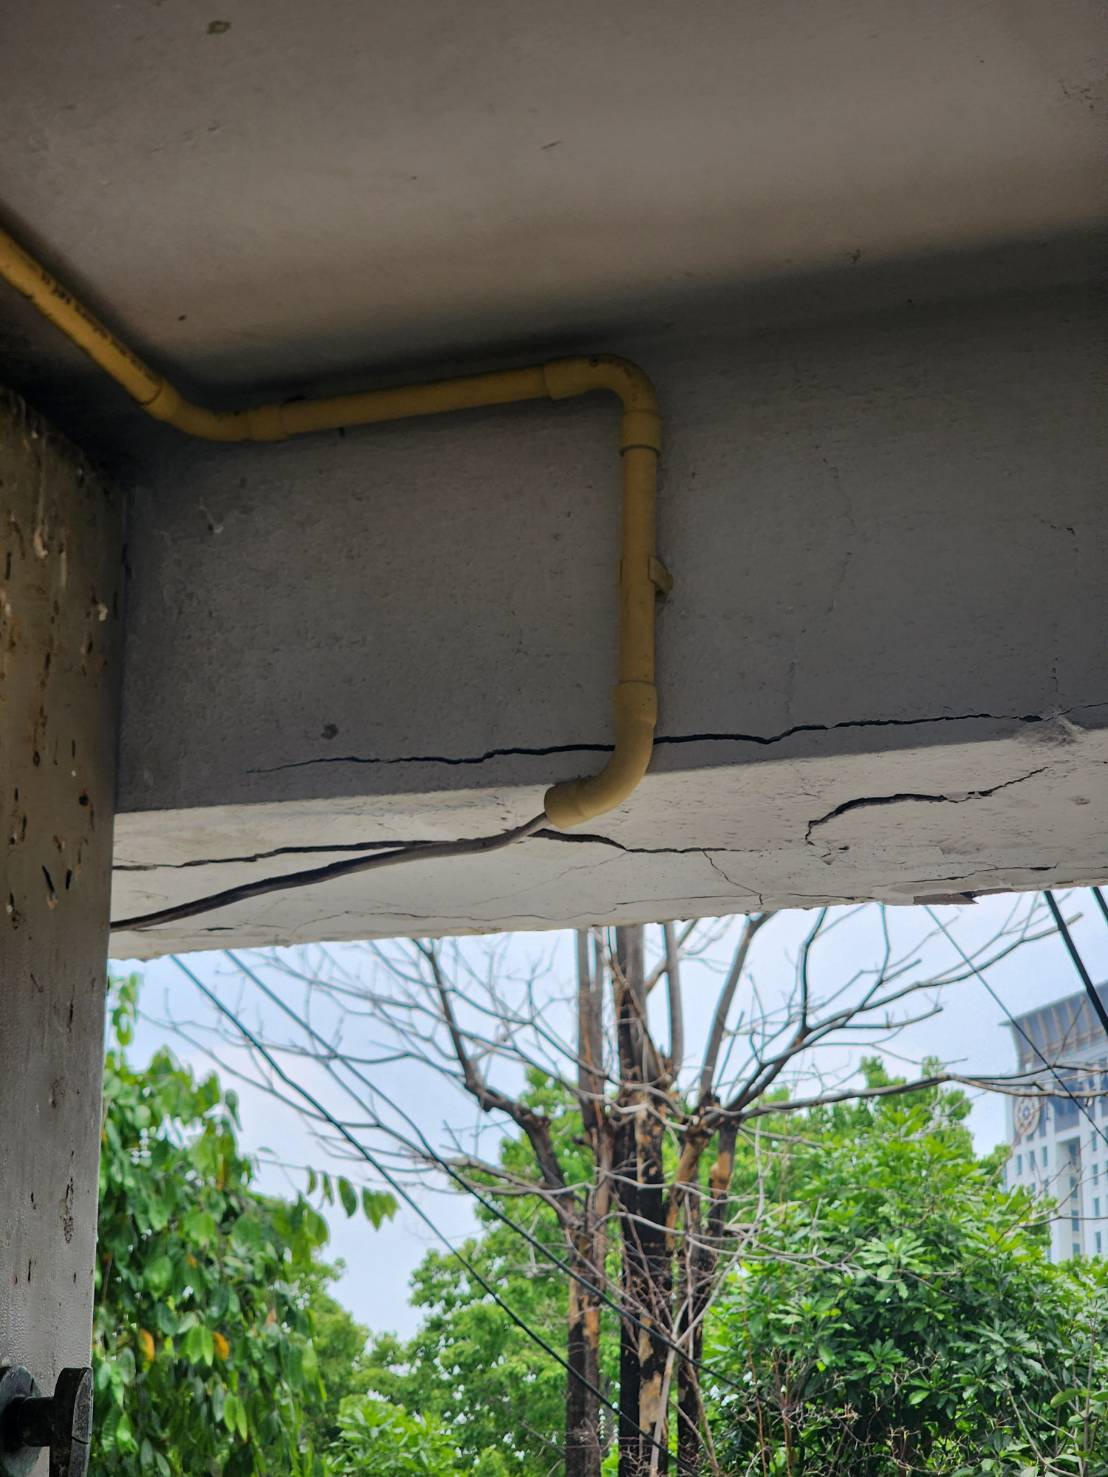High: (102, 703, 1103, 959)
